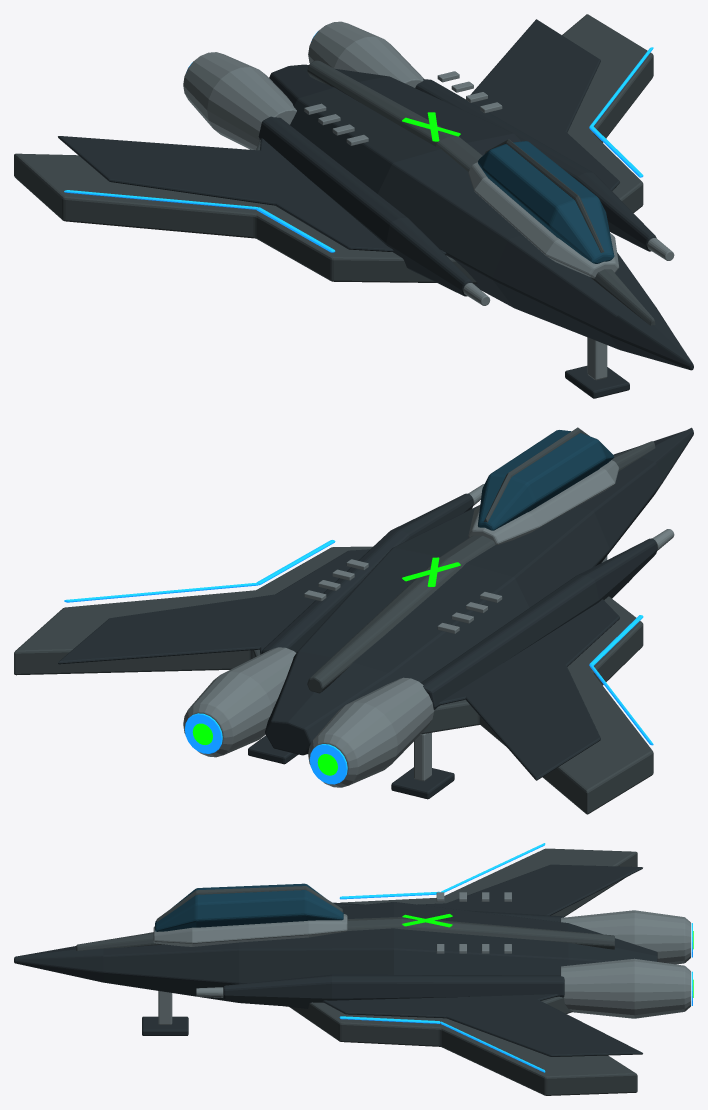
Rendered from fighter_ledger_warden.glb.
The picture shows the model from 3 angles, top to bottom: view 1: azimuth 30°, elevation 25°; view 2: azimuth 150°, elevation 25°; view 3: azimuth 270°, elevation 25°; orthographic projection. The views are drawn at different scales.
Parts seen in each view (by area): view 1: ledger_warden_surface_0, ledger_warden_surface_1, ledger_warden_surface_3, ledger_warden_surface_5, ledger_warden_surface_2, ledger_warden_surface_6; view 2: ledger_warden_surface_0, ledger_warden_surface_1, ledger_warden_surface_3, ledger_warden_surface_5, ledger_warden_surface_2, ledger_warden_surface_4, ledger_warden_surface_6; view 3: ledger_warden_surface_0, ledger_warden_surface_1, ledger_warden_surface_3, ledger_warden_surface_5, ledger_warden_surface_2, ledger_warden_surface_6, ledger_warden_surface_4.
Part boxes in pixels (x1=…): ledger_warden_surface_0: x1=58, y1=19, x2=693, y2=398; ledger_warden_surface_1: x1=14, y1=14, x2=655, y2=325; ledger_warden_surface_3: x1=183, y1=21, x2=674, y2=380; ledger_warden_surface_5: x1=478, y1=141, x2=614, y2=263; ledger_warden_surface_2: x1=64, y1=31, x2=653, y2=252; ledger_warden_surface_6: x1=484, y1=139, x2=604, y2=252; ledger_warden_surface_0: x1=58, y1=427, x2=693, y2=799; ledger_warden_surface_1: x1=14, y1=441, x2=655, y2=814; ledger_warden_surface_3: x1=183, y1=460, x2=674, y2=787; ledger_warden_surface_5: x1=478, y1=430, x2=614, y2=530; ledger_warden_surface_2: x1=64, y1=540, x2=653, y2=784; ledger_warden_surface_4: x1=192, y1=557, x2=460, y2=775; ledger_warden_surface_6: x1=484, y1=427, x2=589, y2=522; ledger_warden_surface_0: x1=14, y1=864, x2=657, y2=1056; ledger_warden_surface_1: x1=76, y1=848, x2=637, y2=1095; ledger_warden_surface_3: x1=153, y1=892, x2=690, y2=1024; ledger_warden_surface_5: x1=155, y1=883, x2=343, y2=931; ledger_warden_surface_2: x1=339, y1=843, x2=692, y2=1072; ledger_warden_surface_6: x1=156, y1=886, x2=342, y2=921; ledger_warden_surface_4: x1=402, y1=914, x2=693, y2=997.
Bounding box in the file's own units: 7 × 2.04 × 8.77.
